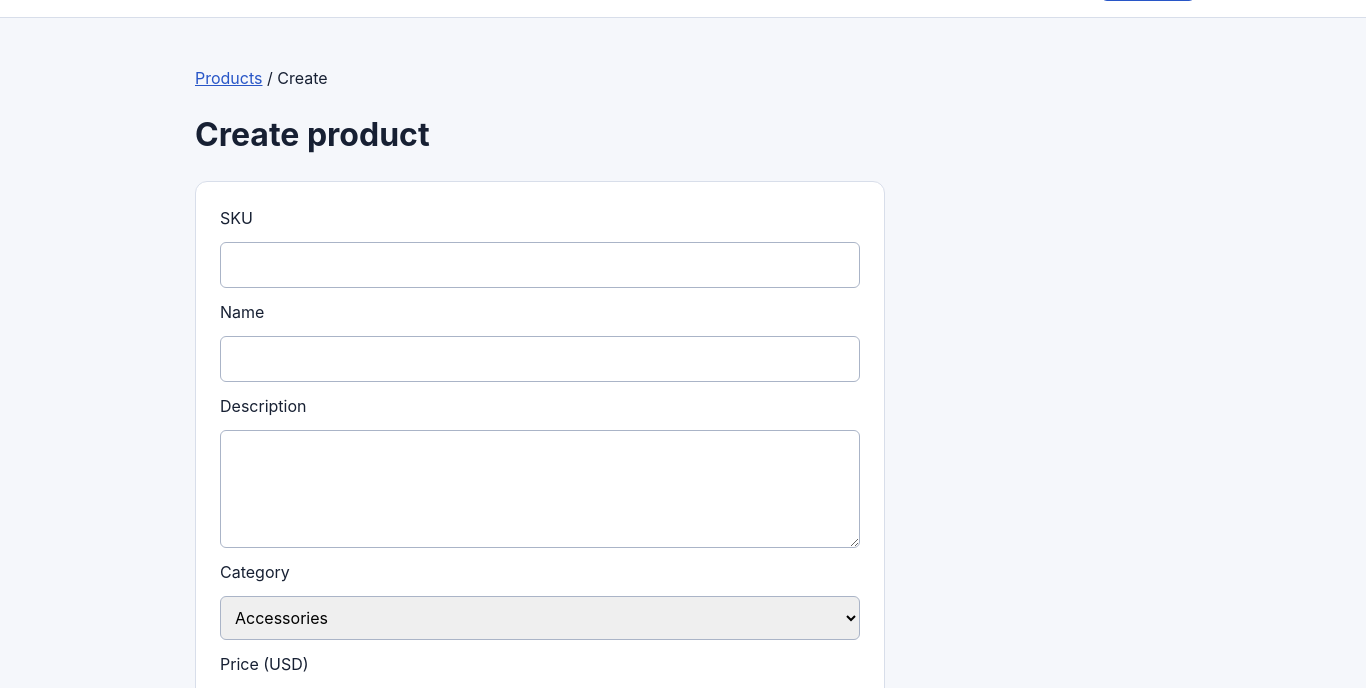
Scenario: authentication UI › allows an Admin to create a product with the validated form
Type "AUD-MIC-001" into the field labelled "SKU" at (540, 265), box x1=220 y1=242 x2=860 y2=288
Type "USB Podcast Microphone" into the field labelled "Name" at (540, 359), box x1=220 y1=336 x2=860 y2=382
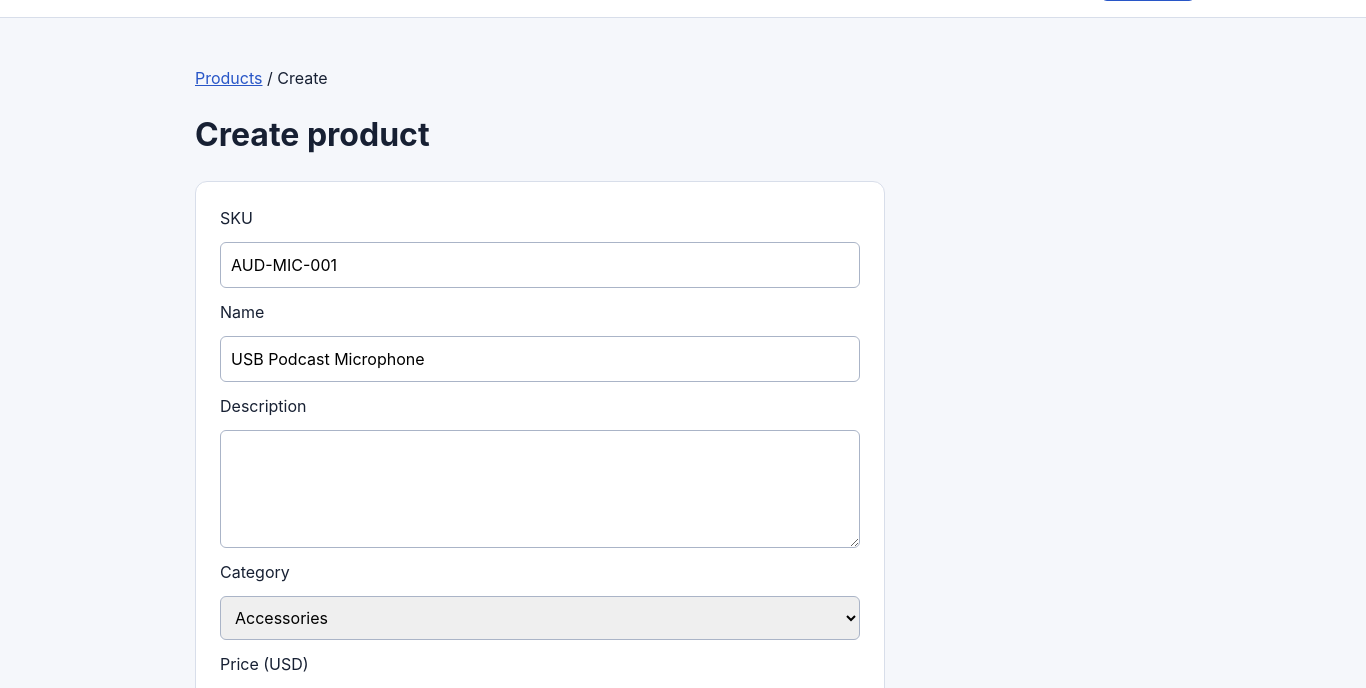
Type "Cardioid condenser microphone with desk stand." into the text box labelled "Description" at (540, 489), box x1=220 y1=430 x2=860 y2=548
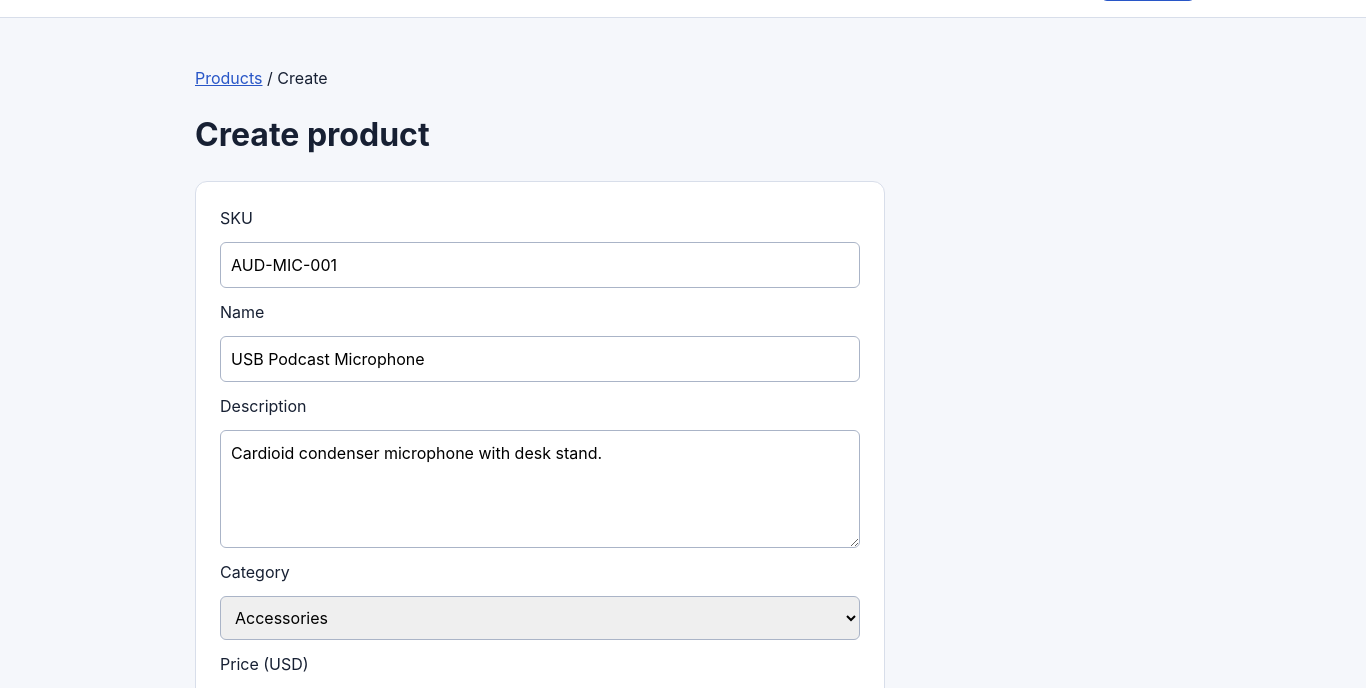
Select "Audio" in the dropdown labelled "Category" at (540, 618), box x1=220 y1=596 x2=860 y2=640
(page scrolled)
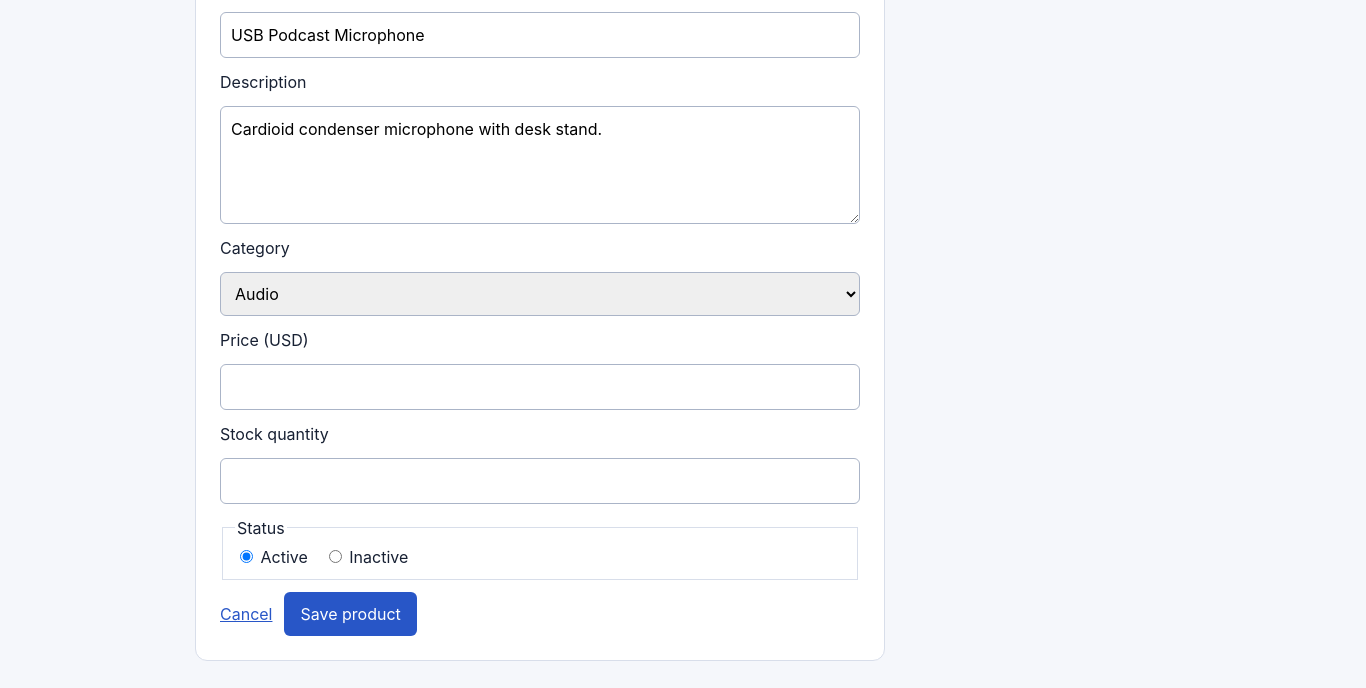
Type "109.90" into the number field labelled "Price (USD)" at (540, 387), box x1=220 y1=364 x2=860 y2=410
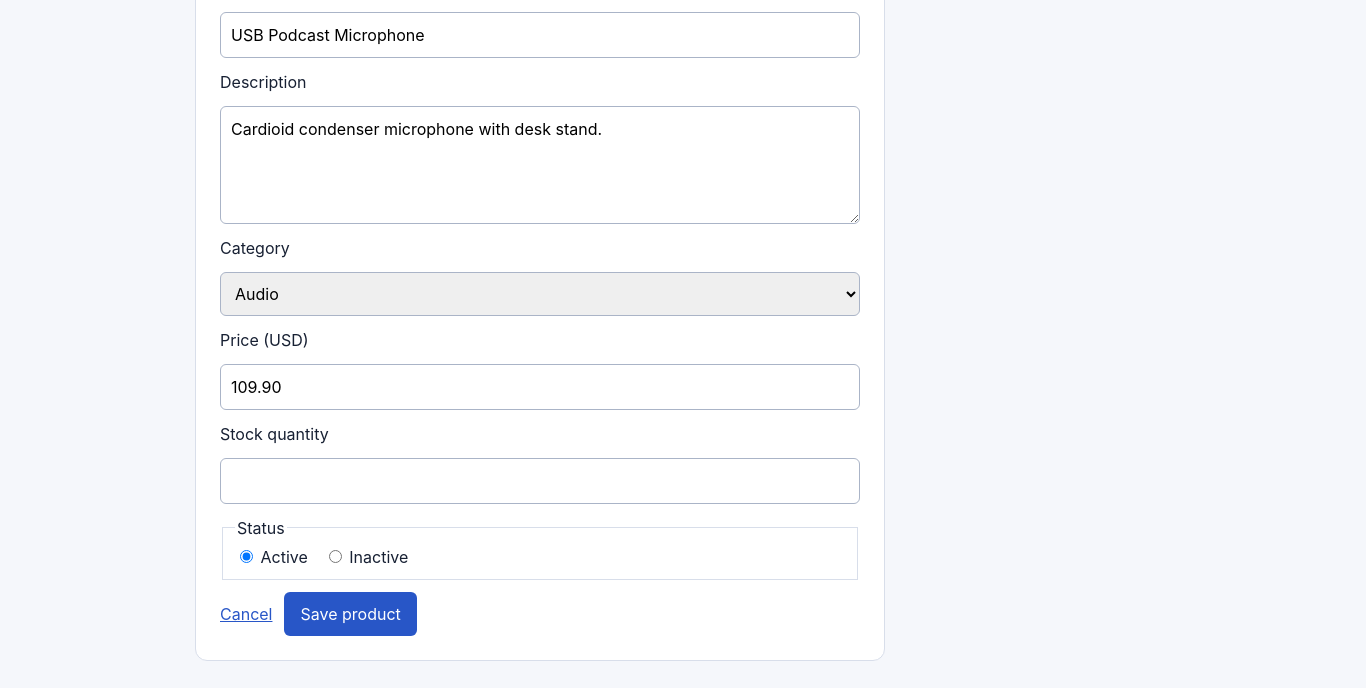
Type "9" into the number field labelled "Stock quantity" at (540, 481), box x1=220 y1=458 x2=860 y2=504
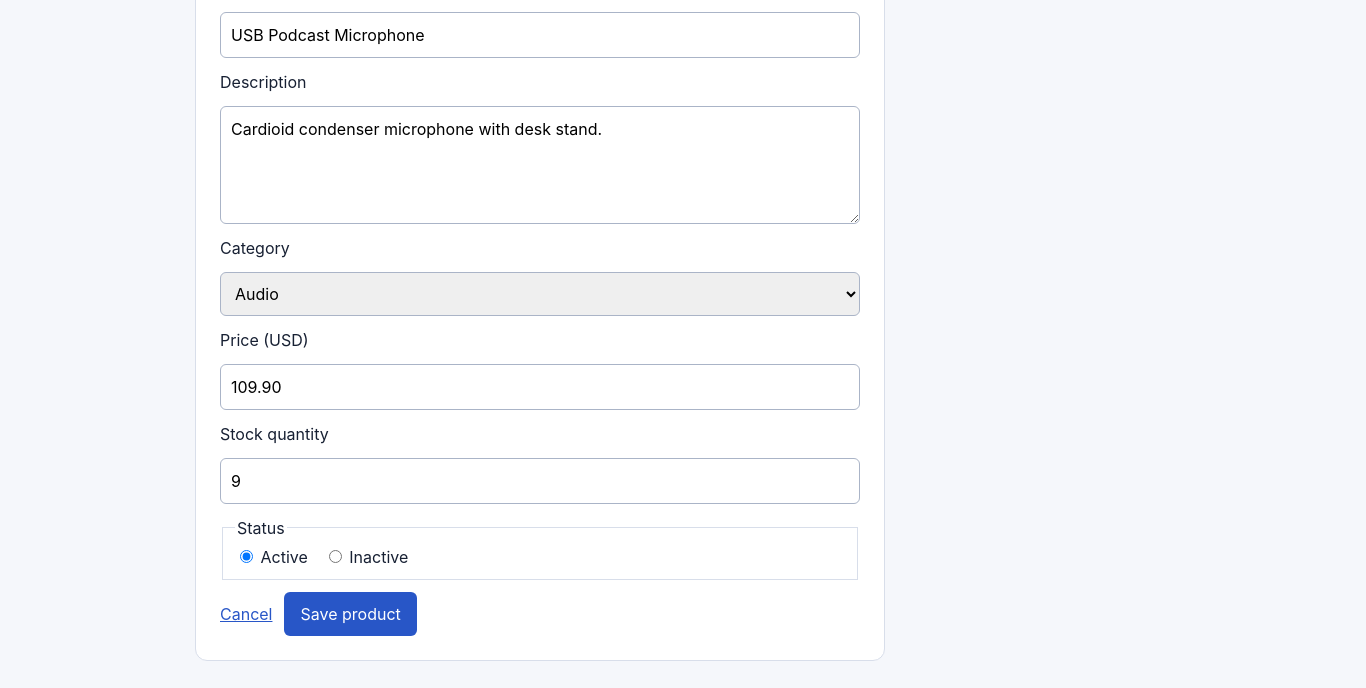
Click the button "Save product" at (351, 614), box x1=284 y1=592 x2=417 y2=636
(page scrolled)
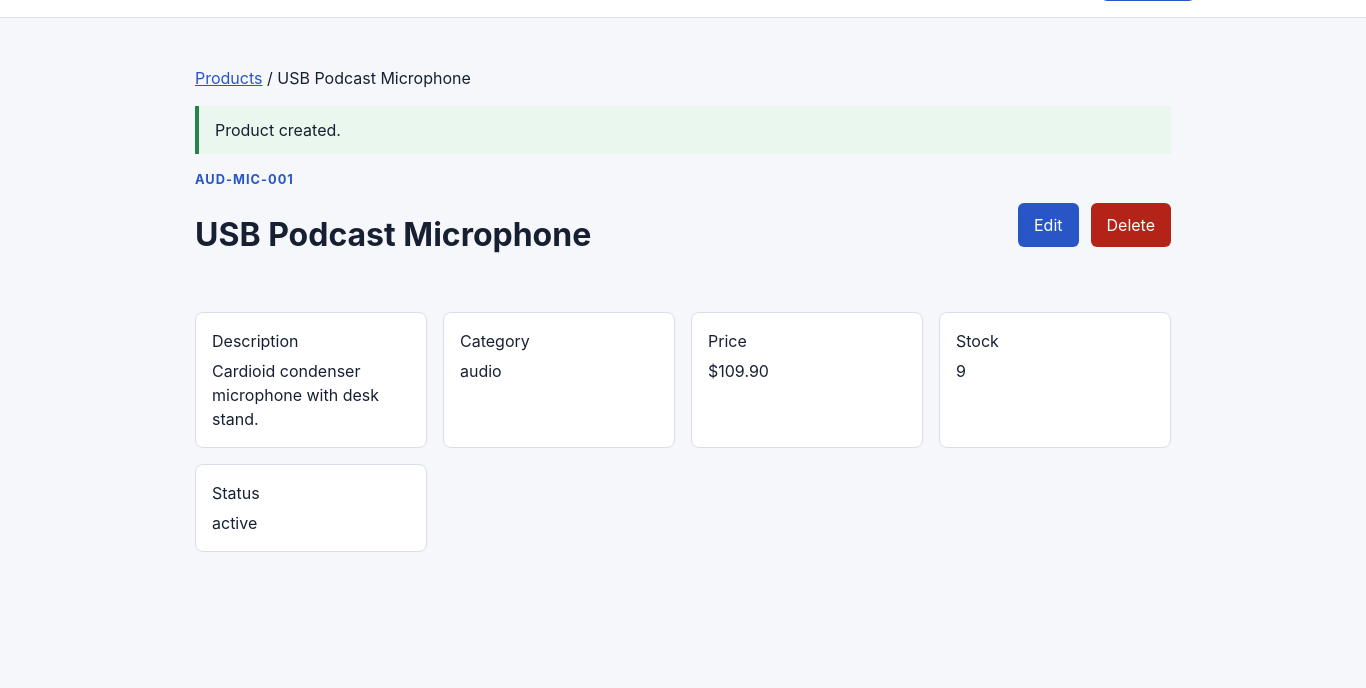
Expected: the text "Product created." is shown, x1=195 y1=106 x2=1171 y2=154
